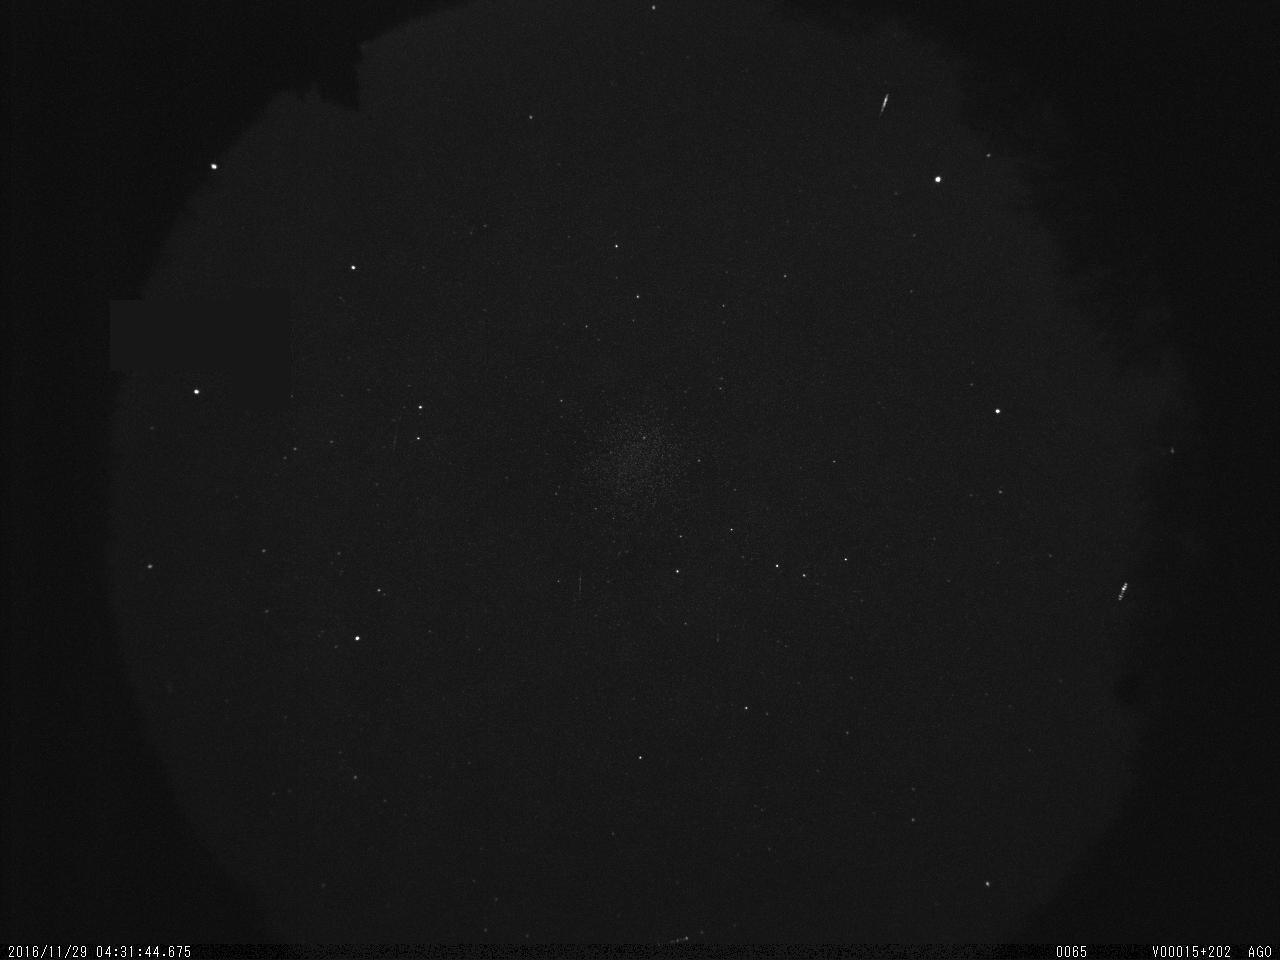Meteor: (877, 88, 893, 117)
